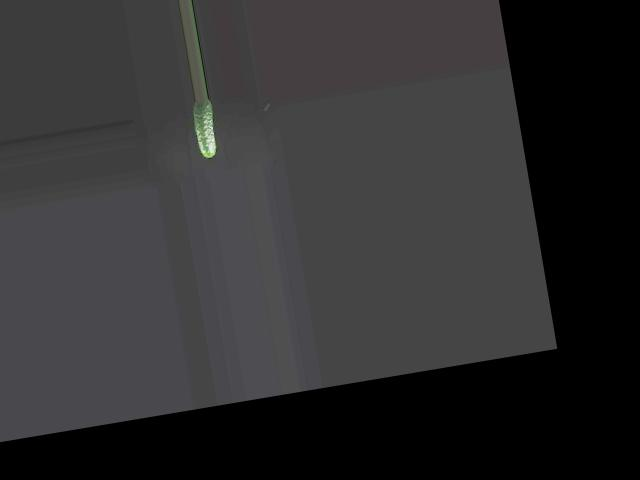cucumber: (190, 97, 221, 159)
